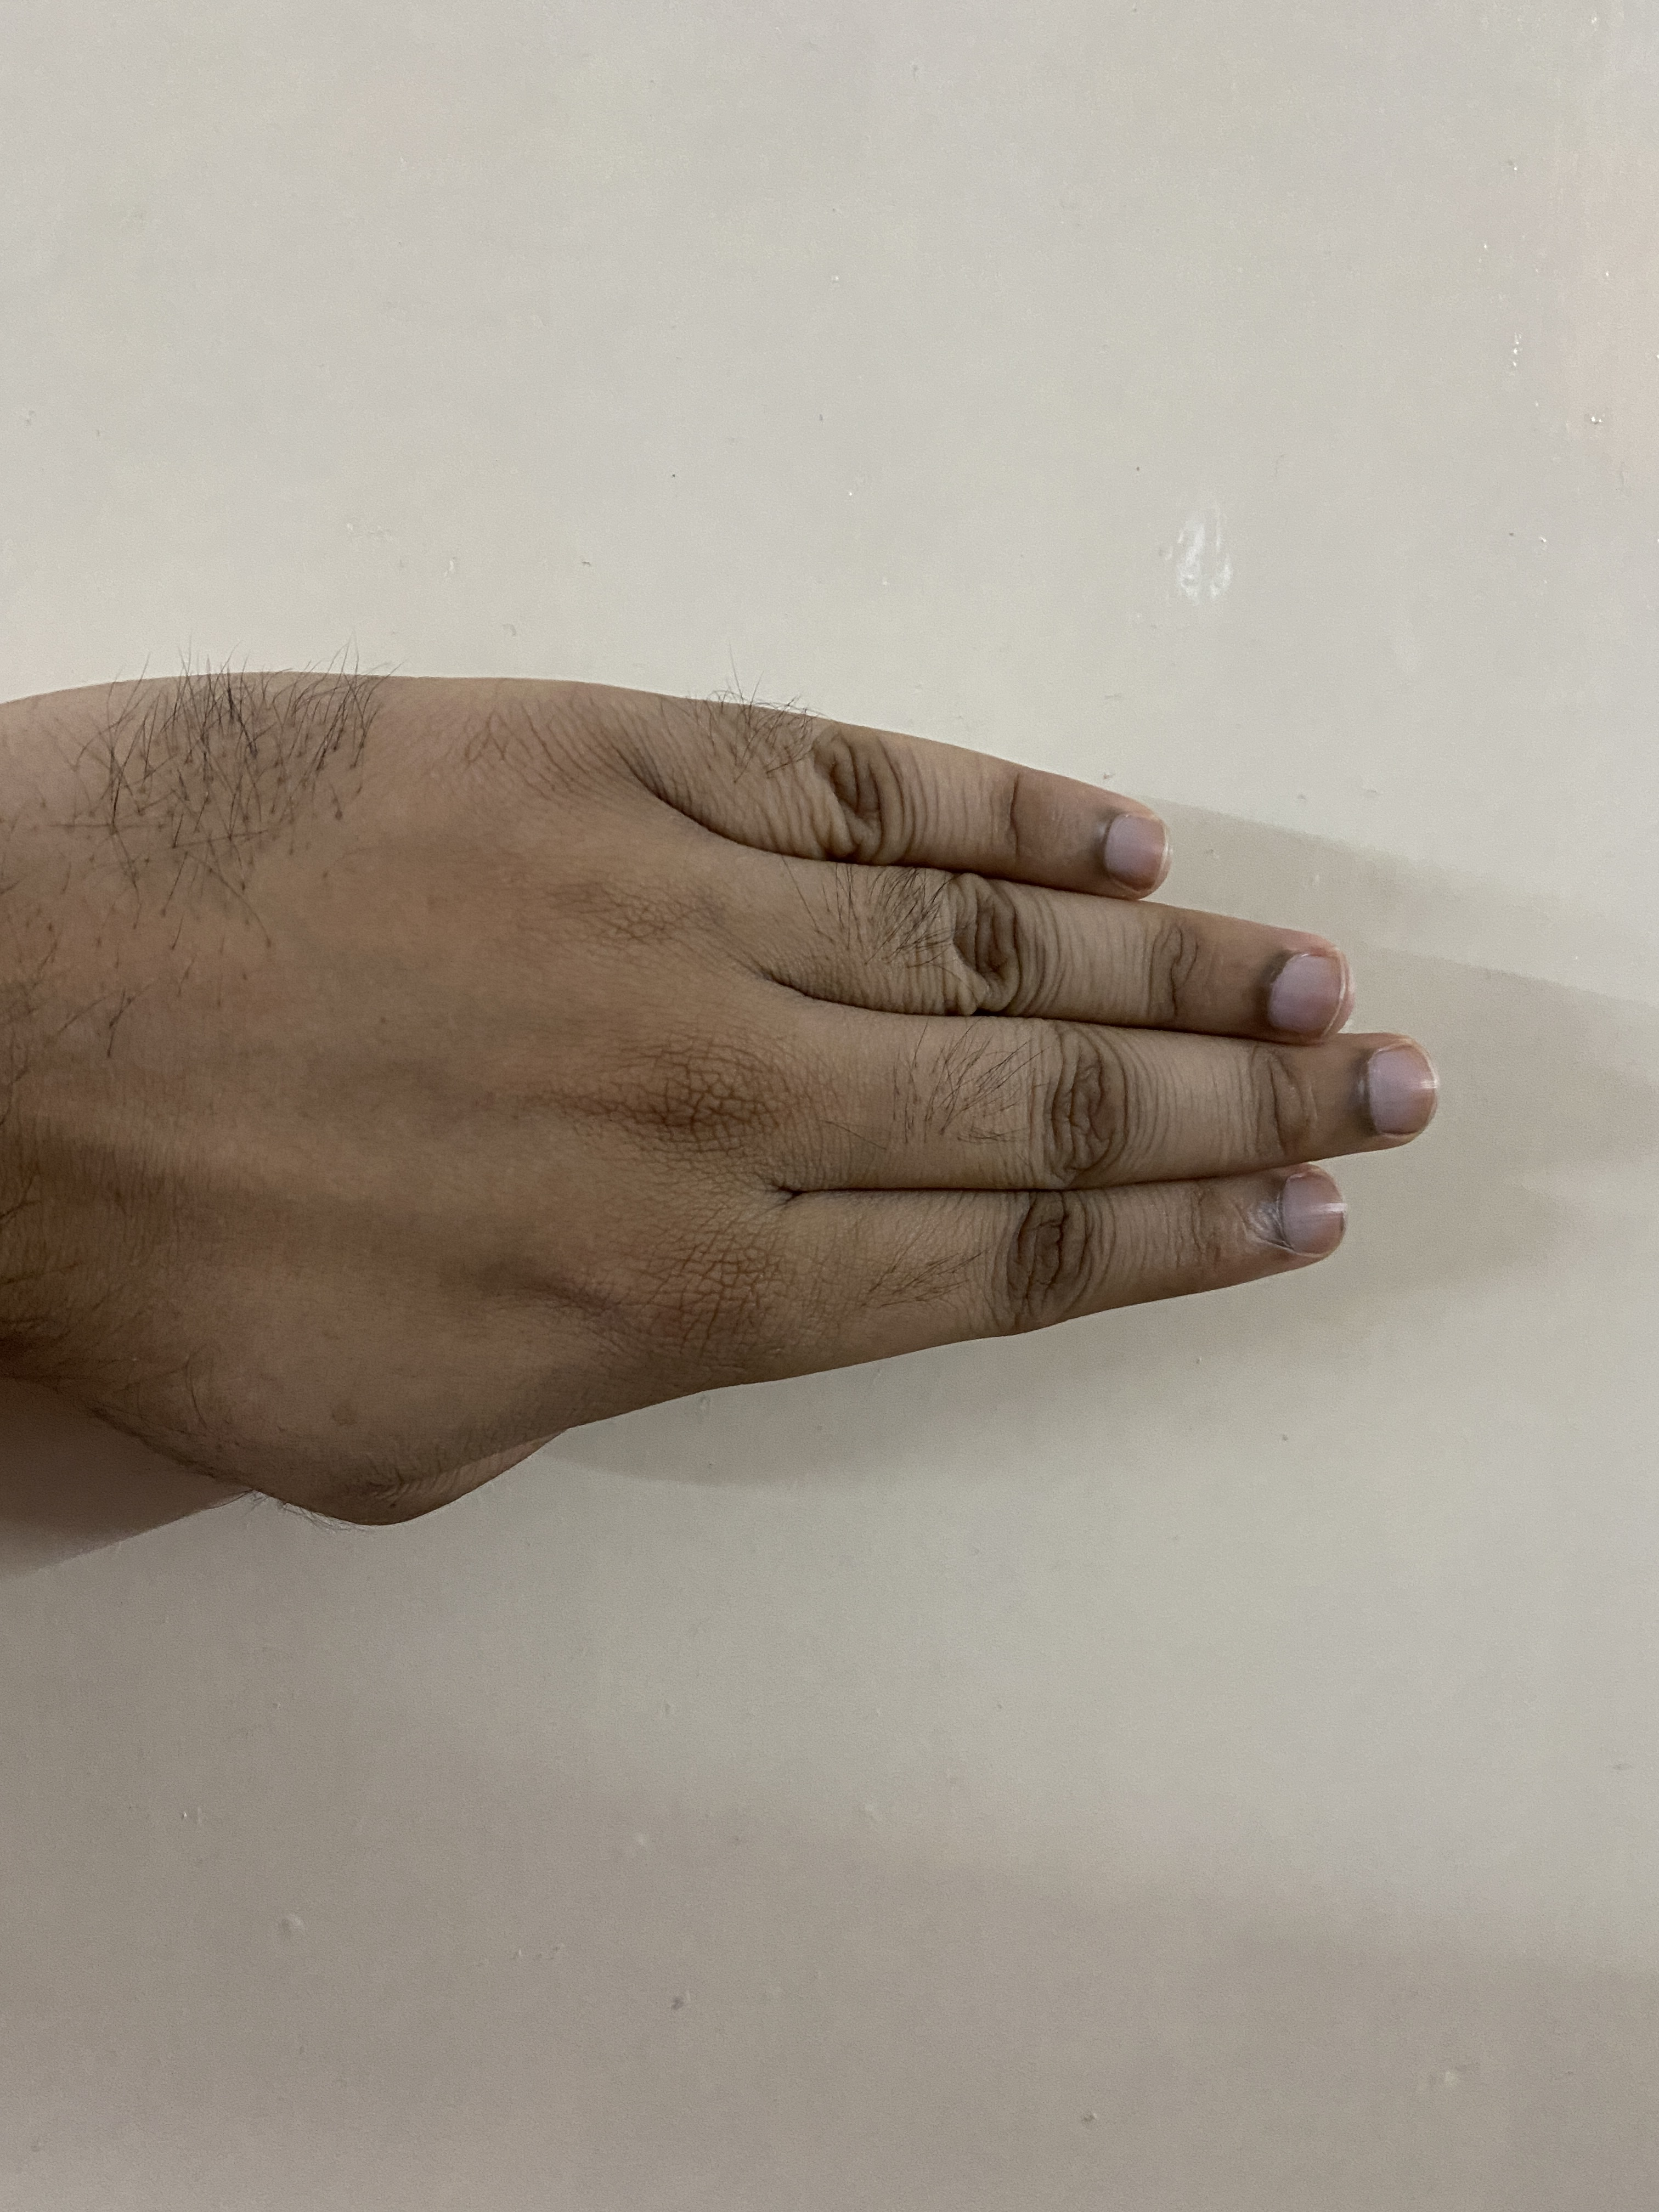left: (5, 610, 1537, 1590)
